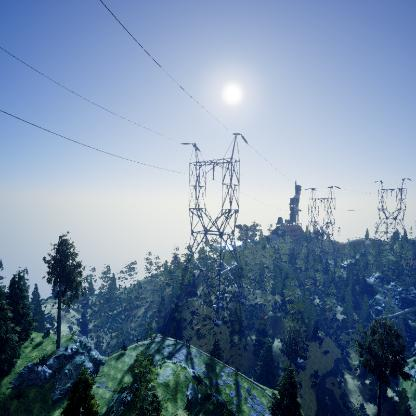tower: (179, 127, 253, 324), (369, 175, 413, 238), (303, 181, 342, 245)
